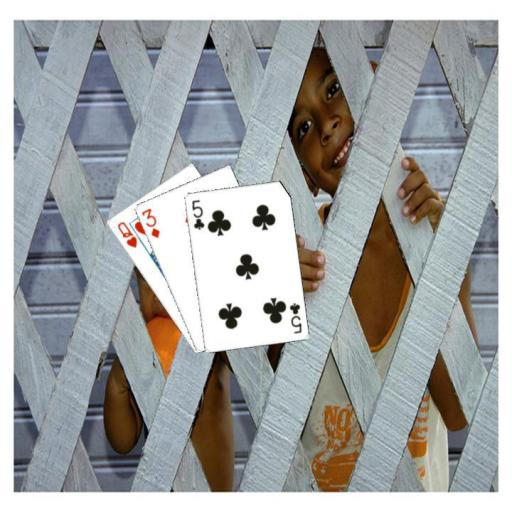3D: (138, 205, 161, 240)
5C: (189, 196, 206, 231), (287, 300, 303, 335)
QH: (114, 218, 139, 250)
